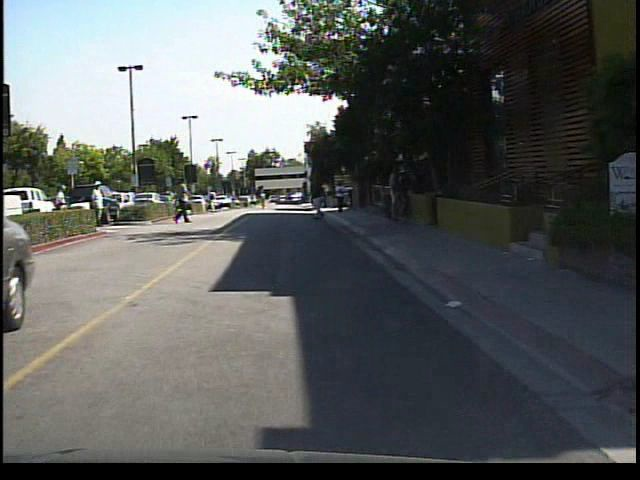person: (385, 157, 411, 229), (307, 167, 334, 223), (171, 173, 197, 230), (88, 176, 111, 228), (54, 180, 75, 233), (402, 167, 422, 222), (334, 176, 350, 216), (206, 186, 221, 215), (256, 188, 272, 211)
